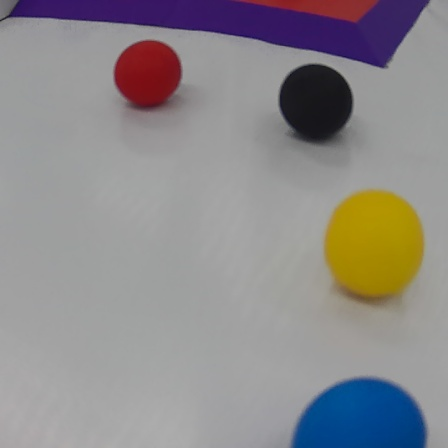black: (276, 63, 360, 145)
blue: (281, 376, 433, 448)
red: (111, 37, 183, 111)
red_aim: (7, 0, 448, 75)
yellow: (317, 191, 428, 304)
